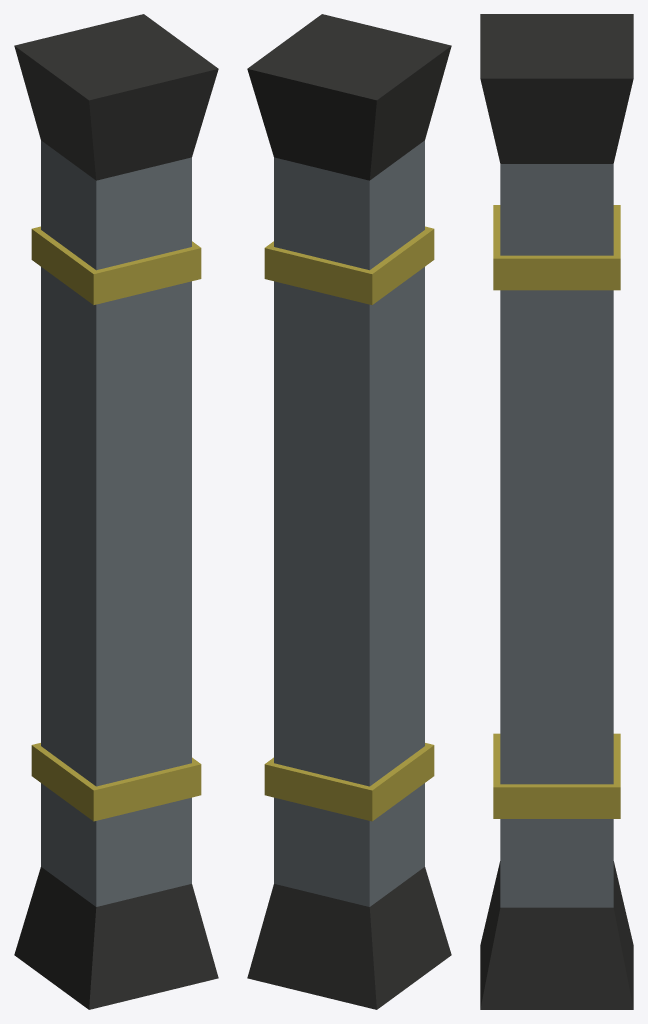
File: ColunaLowPoly02.fbx
3 views of the same model, side by side, from view 1: azimuth 30°, elevation 25°; view 2: azimuth 150°, elevation 25°; view 3: azimuth 270°, elevation 25° (orthographic). The views are drawn at different scales.
Visible parts, largest first — view 1: Cube; view 2: Cube; view 3: Cube.
Boxes of the visible parts, x1,y1,x2,y2 form: Cube: (14,14,218,1009); Cube: (247,14,451,1009); Cube: (480,14,633,1009).
Bounding box in the file's own units: 203 × 1360 × 203.
